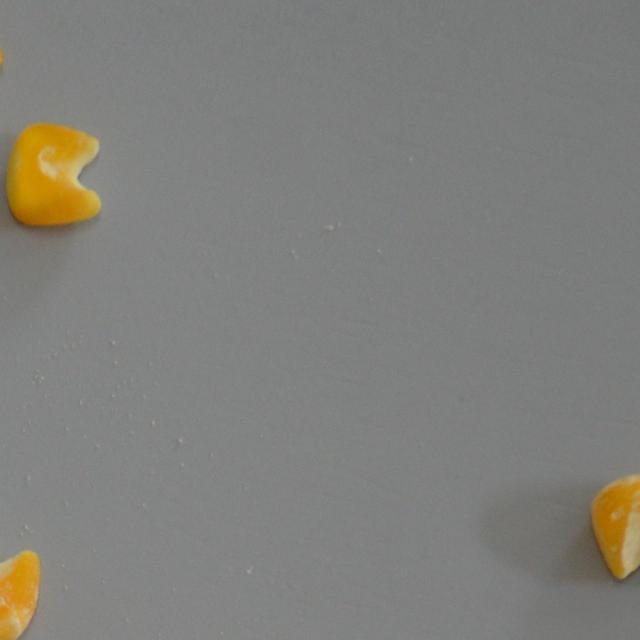no_canjicado: (5, 121, 103, 228)
pelicula: (589, 472, 640, 585), (0, 526, 40, 640)
